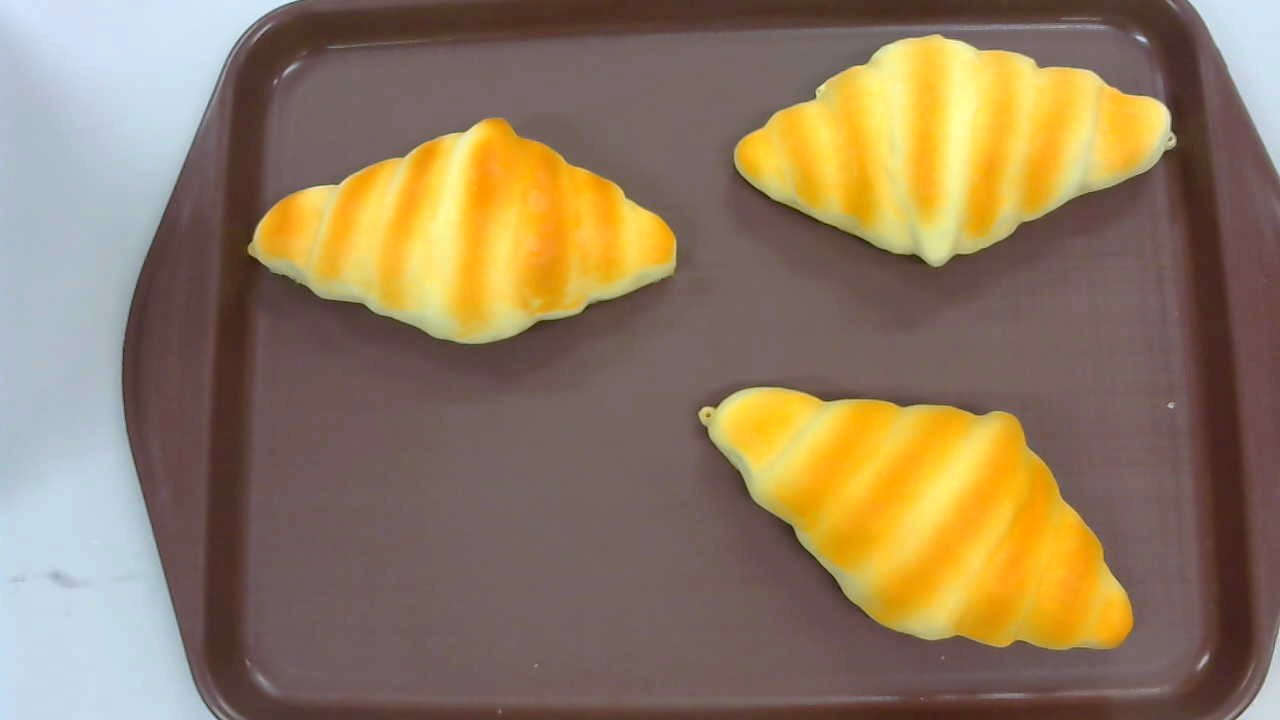croissant: (696, 387, 1134, 653), (732, 31, 1177, 268), (247, 114, 677, 344)
